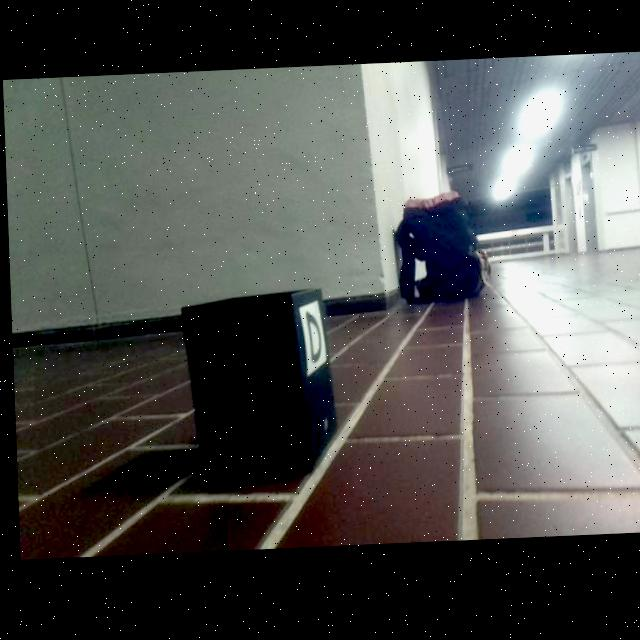D: (303, 315, 319, 367)
